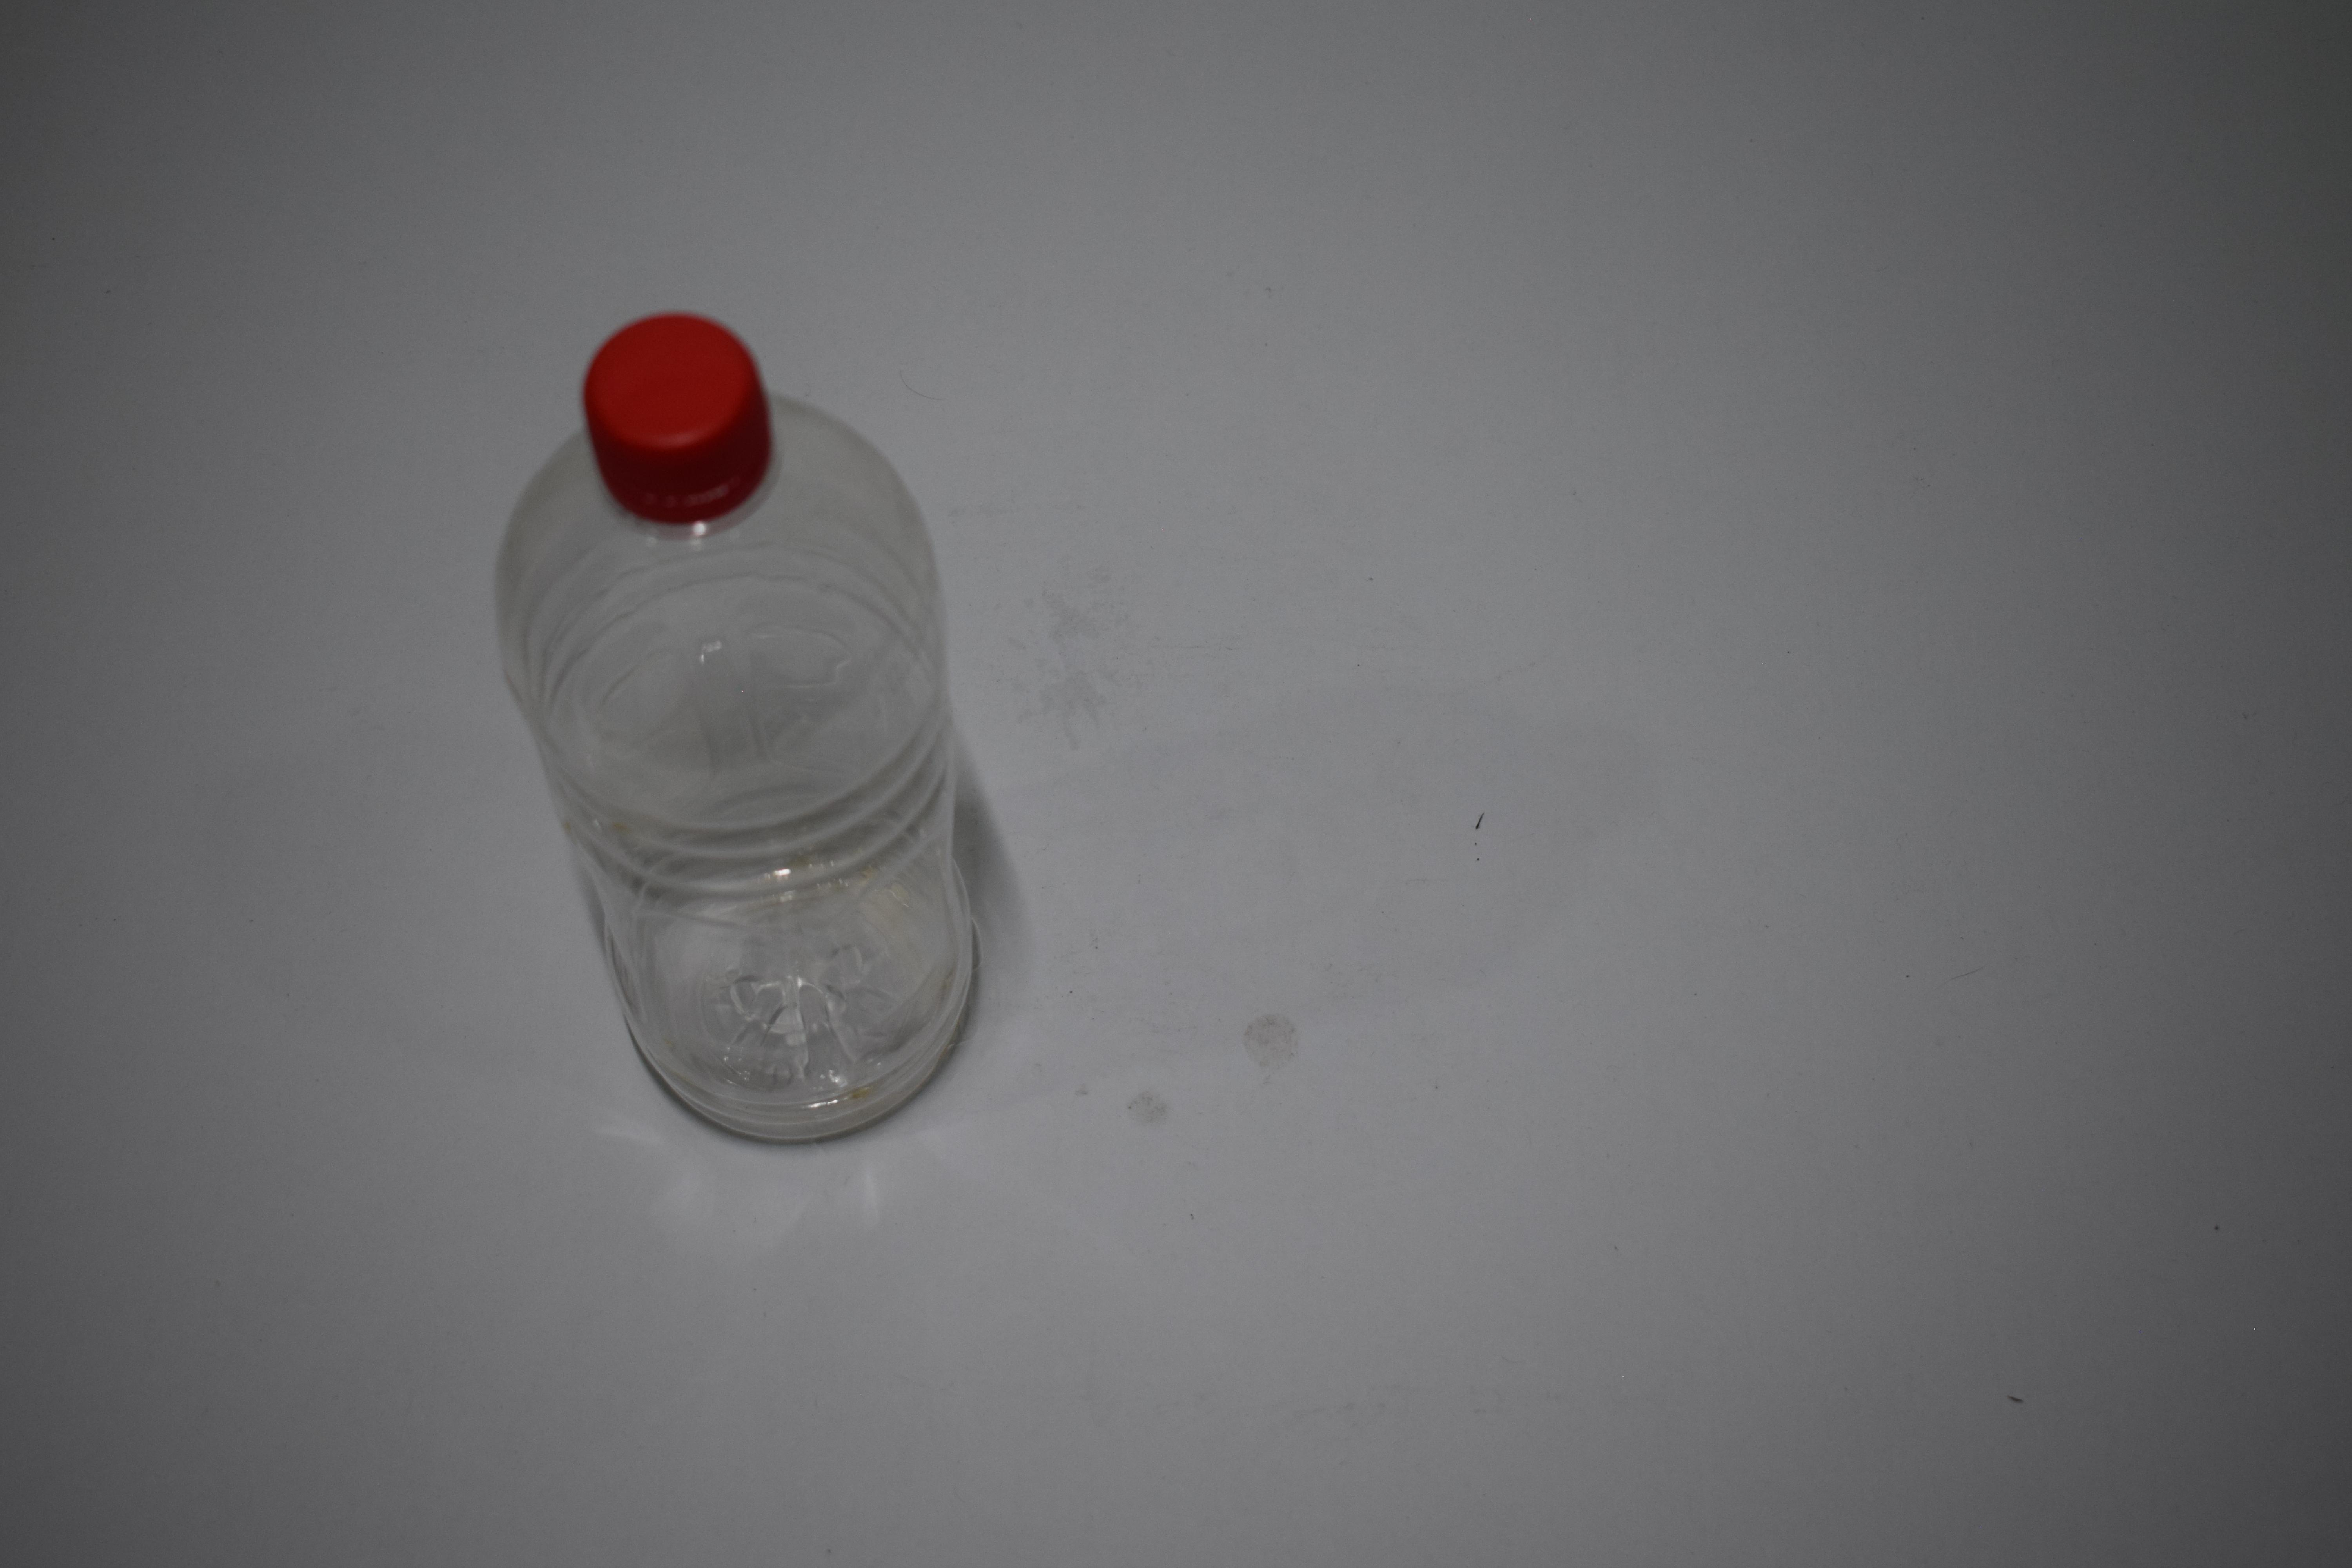bottle: (487, 690, 987, 752)
